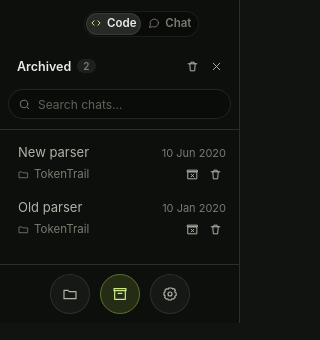
Test: Sidebar order, timestamps and search › searches archived chats with their archive order and a distinct empty state
Type "parser" into the search field named "Search archived chats" at (132, 104), box [38,89,226,119]
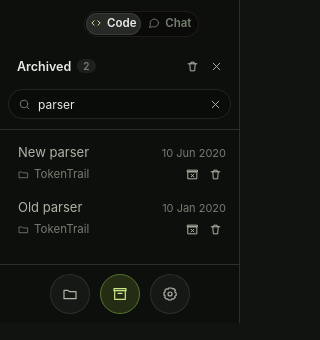
Replace the text in the search field named "Search archived chats" with "missing" at (118, 104), box [38,89,197,119]
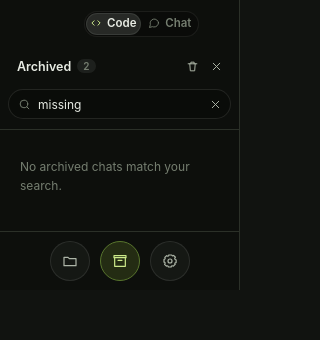
Expected: the button named "Delete all archived chats" is shown, [181,55,203,77]
Expected: the message reads "No archived chats match your search.", [20,159,190,193]
